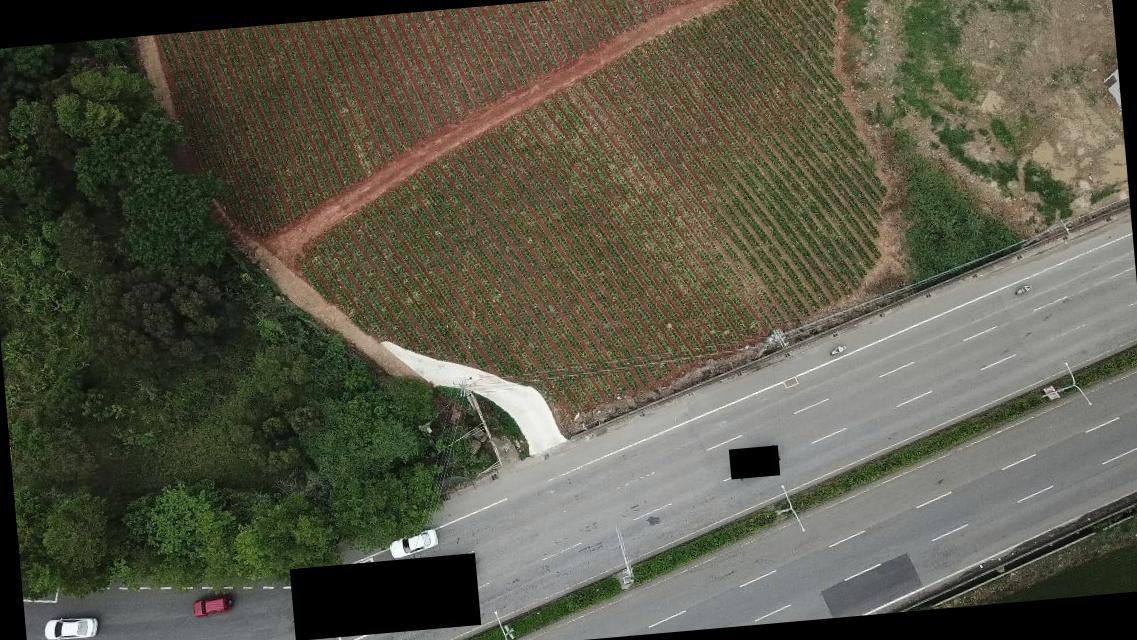vehicle: (386, 525, 442, 561), (42, 614, 99, 639), (188, 593, 231, 619)
